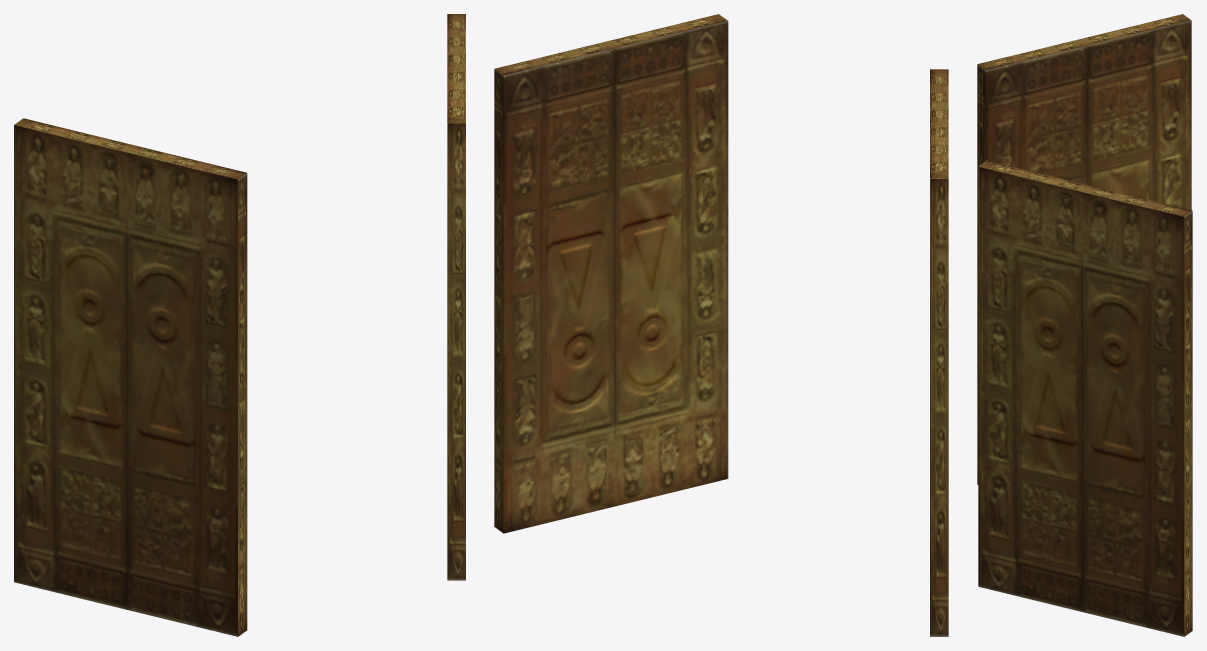
File: kart_fortress_doors_open.dae
3 renders of one model, left to right at view 1: azimuth 30°, elevation 25°; view 2: azimuth 150°, elevation 25°; view 3: azimuth 270°, elevation 25°, orthographic. The views are drawn at different scales.
Visible parts, largest first — view 1: fortress_gate; view 2: fortress_gate; view 3: fortress_gate.
Part boxes in pixels (bbox=[...]): fortress_gate: bbox=[14, 14, 465, 636]; fortress_gate: bbox=[494, 14, 948, 636]; fortress_gate: bbox=[977, 14, 1192, 636].
Size of the model in its own units: 8.1 by 3.64 by 7.82.
